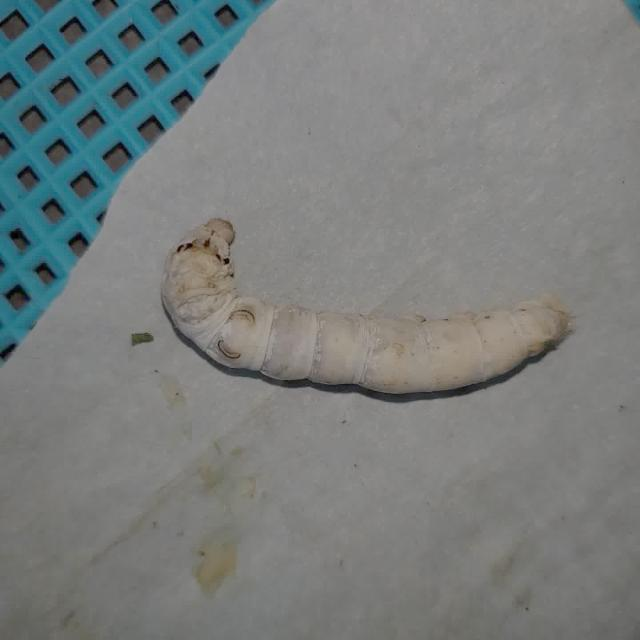Grasserie: (154, 214, 574, 403)
